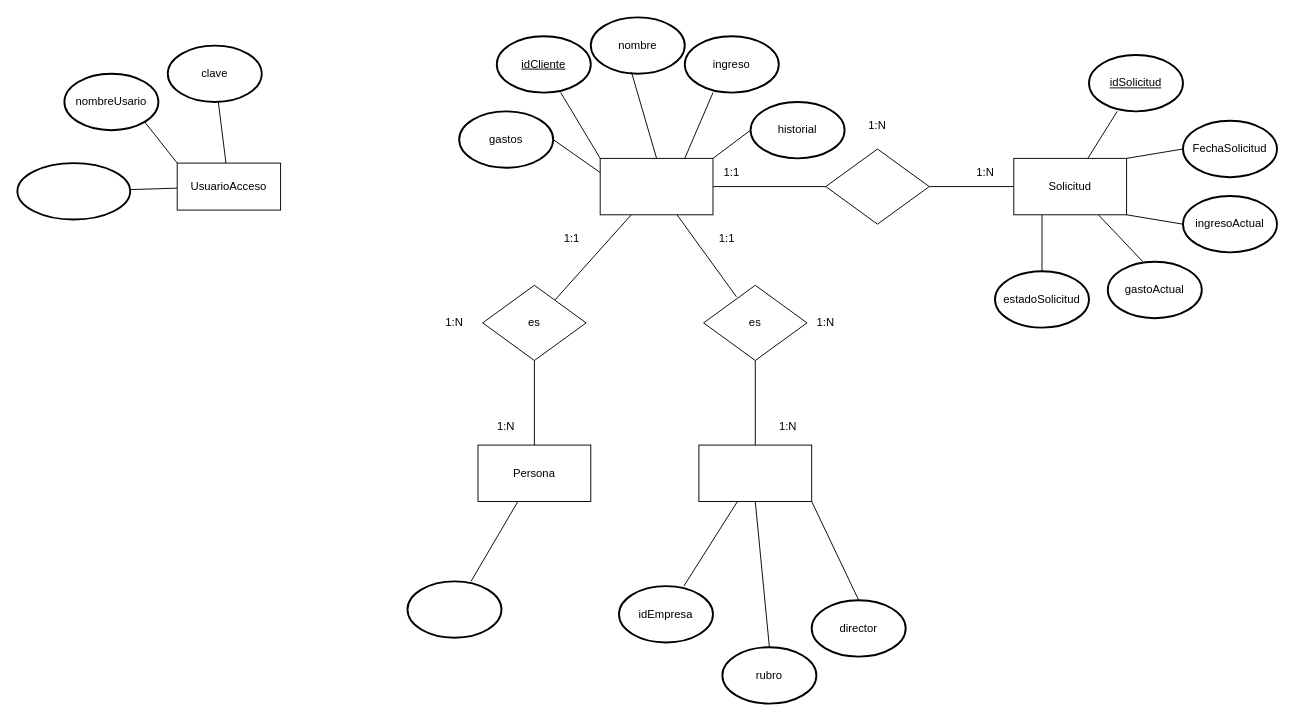
This 1293x720 diagram has some shape labels left out. The box of each missing label's shape, as (x1, y1, x2, y2) in pixels:
Empresa: (698, 444, 812, 501)
idPersona: (406, 580, 502, 638)
idUsuarioAcceso: (16, 162, 131, 220)
Registra: (825, 148, 929, 224)
UsuarioCliente: (599, 157, 713, 215)
